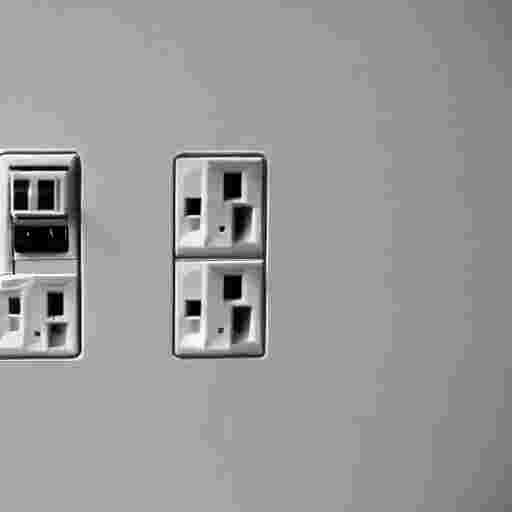power outlet: (172, 152, 267, 357), (174, 154, 264, 256), (174, 259, 263, 355)
